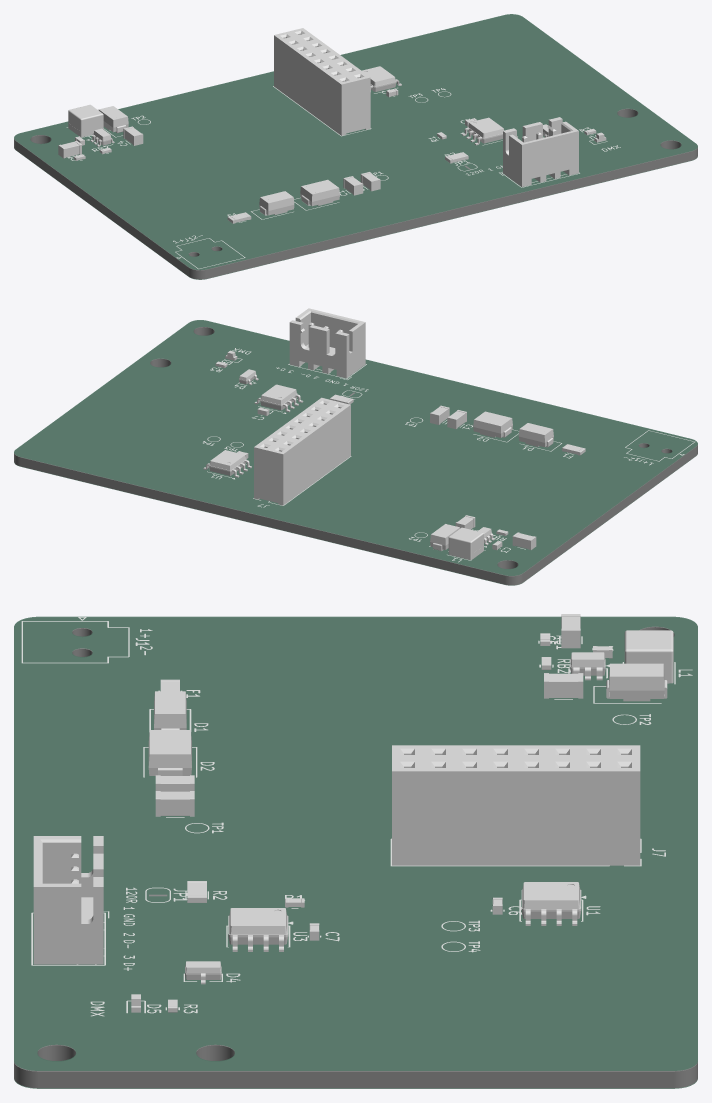
The model's file is AP1_DMX.glb.
3 renders of one model, top to bottom at view 1: azimuth 30°, elevation 25°; view 2: azimuth 150°, elevation 25°; view 3: azimuth 270°, elevation 25°, orthographic. The views are drawn at different scales.
Visible parts, largest first — view 1: =>[0:1:1:20], =>[0:1:1:18], J7, J2, =>[0:1:1:16], L1, D2, U3, D1, =>[0:1:1:19], U1, D3; view 2: =>[0:1:1:20], =>[0:1:1:18], J7, J2, =>[0:1:1:16], L1, D2, U3, U1, D1, =>[0:1:1:19], D3; view 3: =>[0:1:1:20], =>[0:1:1:18], J7, J2, =>[0:1:1:16], U1, U3, D3, D2, L1, D1, C4 (+3 smaller).
Part boxes in pixels (left/top/right/bottom): =>[0:1:1:20]: left=14, top=15, right=697, bottom=279; =>[0:1:1:18]: left=14, top=14, right=697, bottom=270; J7: left=274, top=28, right=370, bottom=135; J2: left=503, top=117, right=578, bottom=186; =>[0:1:1:16]: left=66, top=86, right=620, bottom=269; L1: left=68, top=104, right=103, bottom=137; D2: left=300, top=179, right=339, bottom=206; U3: left=462, top=117, right=503, bottom=145; D1: left=259, top=191, right=294, bottom=215; =>[0:1:1:19]: left=14, top=148, right=697, bottom=279; U1: left=362, top=66, right=401, bottom=91; D3: left=98, top=106, right=128, bottom=133; =>[0:1:1:20]: left=14, top=321, right=697, bottom=585; =>[0:1:1:18]: left=14, top=320, right=697, bottom=575; J7: left=254, top=397, right=350, bottom=505; J2: left=289, top=308, right=365, bottom=378; =>[0:1:1:16]: left=203, top=348, right=695, bottom=562; L1: left=448, top=527, right=483, bottom=559; D2: left=473, top=411, right=512, bottom=437; U3: left=254, top=384, right=303, bottom=412; U1: left=203, top=450, right=251, bottom=477; D1: left=518, top=423, right=553, bottom=447; =>[0:1:1:19]: left=14, top=455, right=696, bottom=585; D3: left=430, top=524, right=459, bottom=550; =>[0:1:1:20]: left=14, top=618, right=697, bottom=1088; =>[0:1:1:18]: left=14, top=616, right=697, bottom=1070; J7: left=392, top=745, right=640, bottom=865; J2: left=33, top=836, right=103, bottom=964; =>[0:1:1:16]: left=21, top=617, right=692, bottom=1016; U1: left=521, top=882, right=581, bottom=925; U3: left=228, top=908, right=288, bottom=951; D3: left=606, top=663, right=667, bottom=701; D2: left=148, top=730, right=191, bottom=775; L1: left=624, top=630, right=673, bottom=683; D1: left=154, top=691, right=186, bottom=729; C4: left=544, top=673, right=583, bottom=698.
Bounding box in the file's own units: 0.088 × 0.0119 × 0.056.
